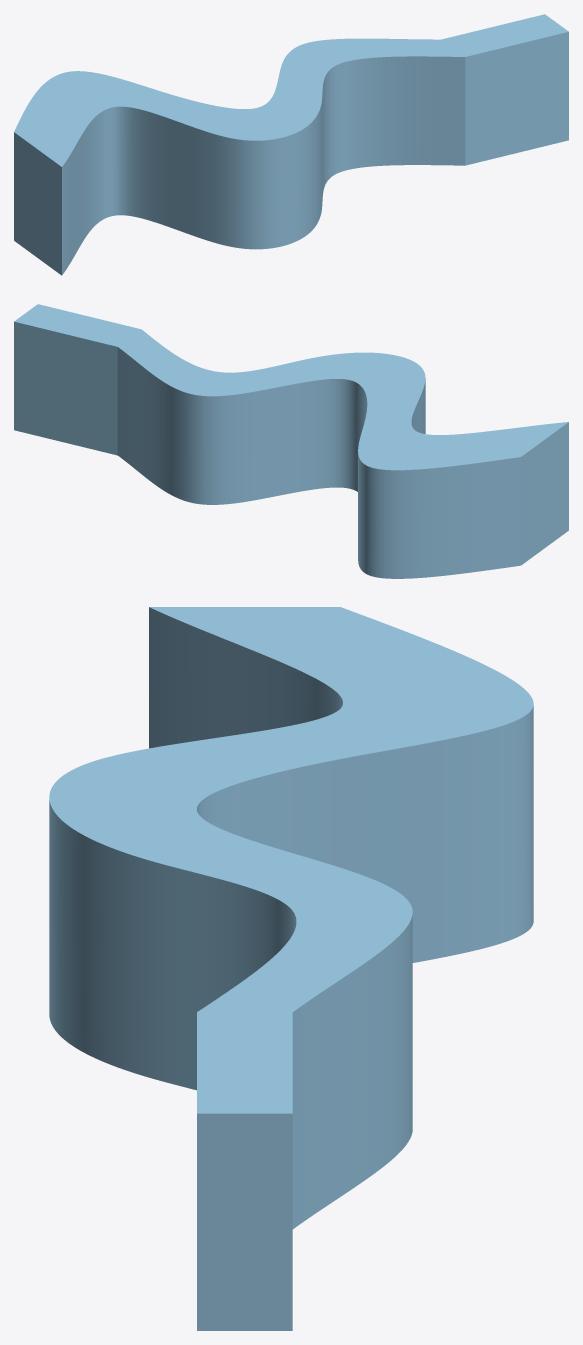
Rendered from curves.dae.
3 renders of one model, top to bottom at view 1: azimuth 30°, elevation 25°; view 2: azimuth 150°, elevation 25°; view 3: azimuth 270°, elevation 25°, orthographic. The views are drawn at different scales.
Parts seen in each view (by area): view 1: 5d6e04b49ef13815ea3827be; view 2: 5d6e04b49ef13815ea3827be; view 3: 5d6e04b49ef13815ea3827be.
Boxes of the visible parts, x1,y1,x2,y2 form: 5d6e04b49ef13815ea3827be: (14,14,568,275); 5d6e04b49ef13815ea3827be: (14,304,568,578); 5d6e04b49ef13815ea3827be: (49,607,533,1330).
Bounding box in the file's own units: 2.5 × 1.01 × 0.5.
